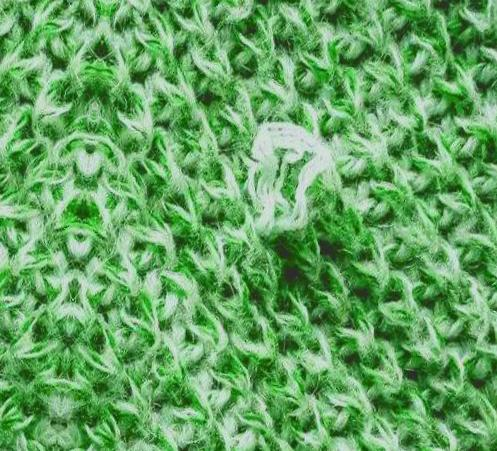snag: (239, 120, 337, 248)
